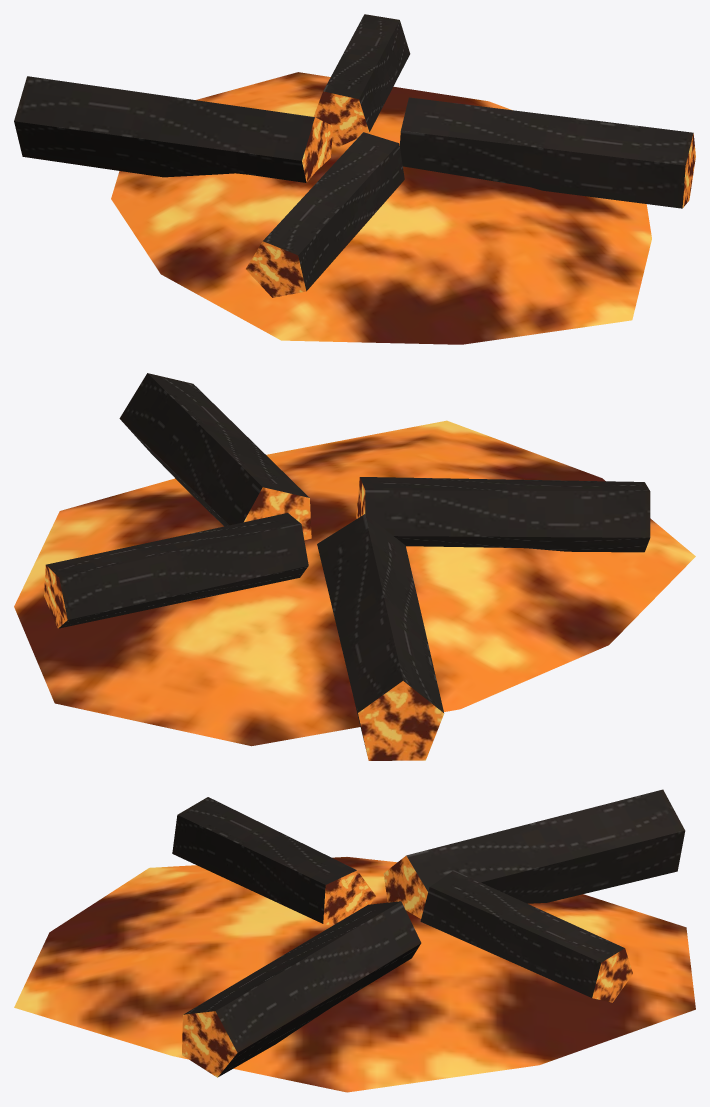
File: fire_embers.glb
3 renders of one model, top to bottom at view 1: azimuth 30°, elevation 25°; view 2: azimuth 150°, elevation 25°; view 3: azimuth 270°, elevation 25°, orthographic. The views are drawn at different scales.
Visible parts, largest first — view 1: FIRE_EMBERS; view 2: FIRE_EMBERS; view 3: FIRE_EMBERS.
Boxes of the visible parts, <box> form: FIRE_EMBERS: <box>14,14,695,344</box>; FIRE_EMBERS: <box>14,373,695,760</box>; FIRE_EMBERS: <box>14,789,695,1092</box>.
Bounding box in the file's own units: 0.4262 × 0.0774 × 0.517.
2 materials, 2 textured.
